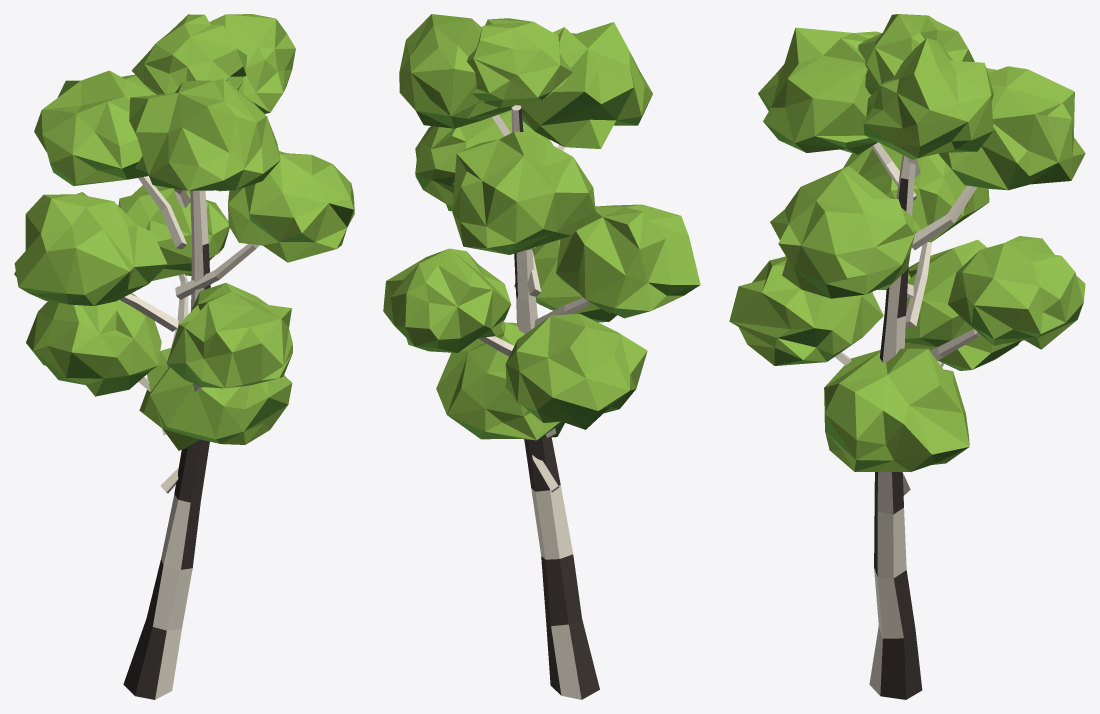
Rendered from Veg_Birke.fbx.
3 views of the same model, side by side, from view 1: azimuth 30°, elevation 25°; view 2: azimuth 150°, elevation 25°; view 3: azimuth 270°, elevation 25° (orthographic). The views are drawn at different scales.
Parts seen in each view (by area): view 1: Veg_Birke; view 2: Veg_Birke; view 3: Veg_Birke.
Part boxes in pixels (<box>): Veg_Birke: <box>14,14,354,699</box>; Veg_Birke: <box>383,14,700,699</box>; Veg_Birke: <box>729,14,1085,699</box>.
Bounding box in the file's own units: 3 × 6 × 2.78.
